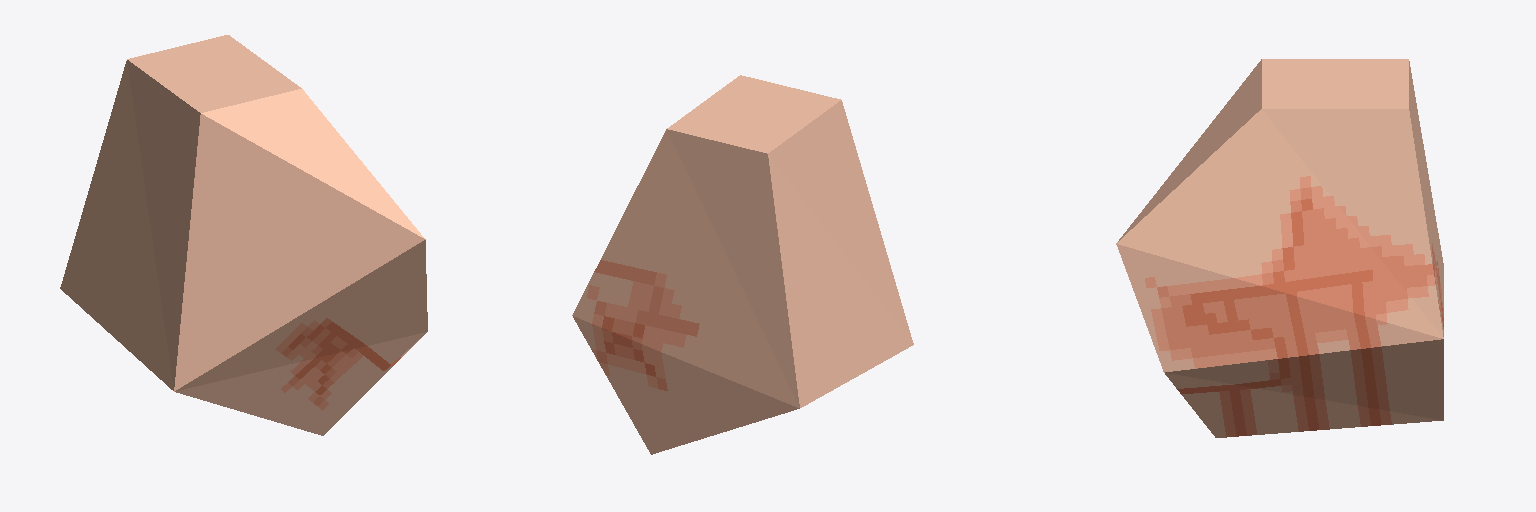
3 views of the same model, side by side, from view 1: azimuth 30°, elevation 25°; view 2: azimuth 150°, elevation 25°; view 3: azimuth 270°, elevation 25° (orthographic).
Parts seen in each view (by area): view 1: 09_RIGHT_HAND; view 2: 09_RIGHT_HAND; view 3: 09_RIGHT_HAND.
Boxes of the visible parts, <box> form: 09_RIGHT_HAND: <box>60,35,427,435</box>; 09_RIGHT_HAND: <box>572,75,913,454</box>; 09_RIGHT_HAND: <box>1116,59,1443,437</box>.
Size of the model in its own units: 0.1213 by 0.168 by 0.151.
Materials: 1 (1 with a texture image).